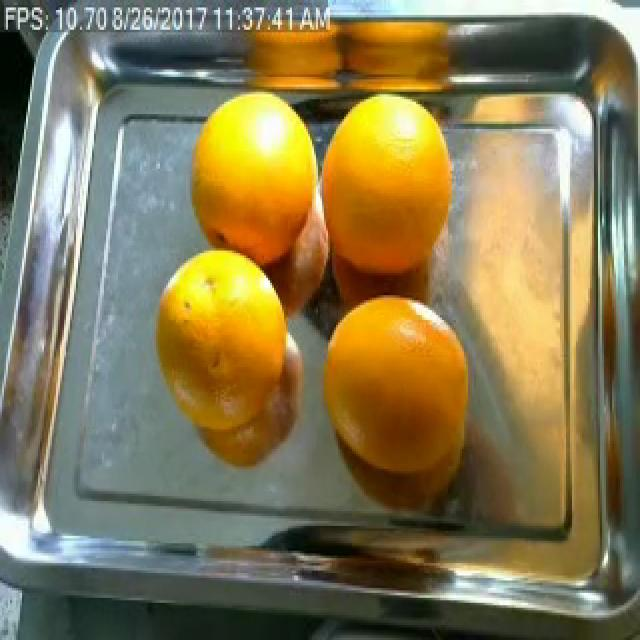Fruit: (174, 77, 322, 278), (144, 238, 302, 419)
